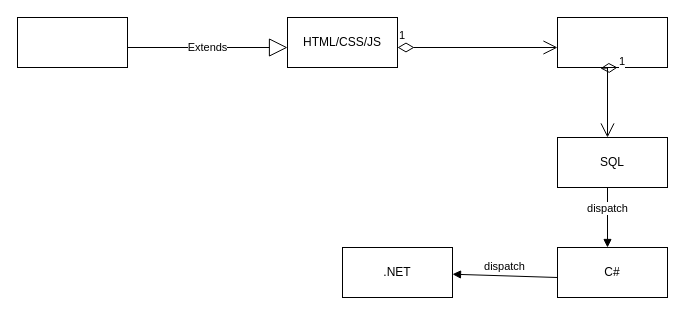
This 685x315 diagram has some shape labels left out. The centre of each missing label's shape, as x and y in pixels:
"Flask" goes at [612,42].
"Python" goes at [72,42].
